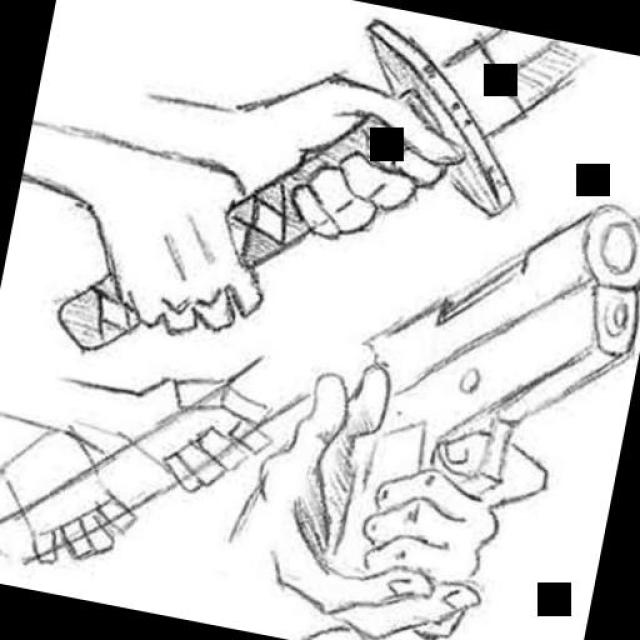gun: (286, 152, 640, 632)
